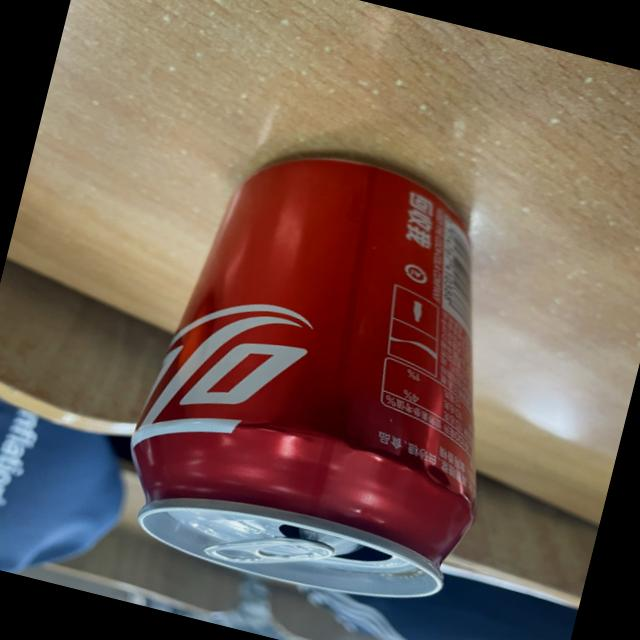can: (100, 115, 556, 628)
